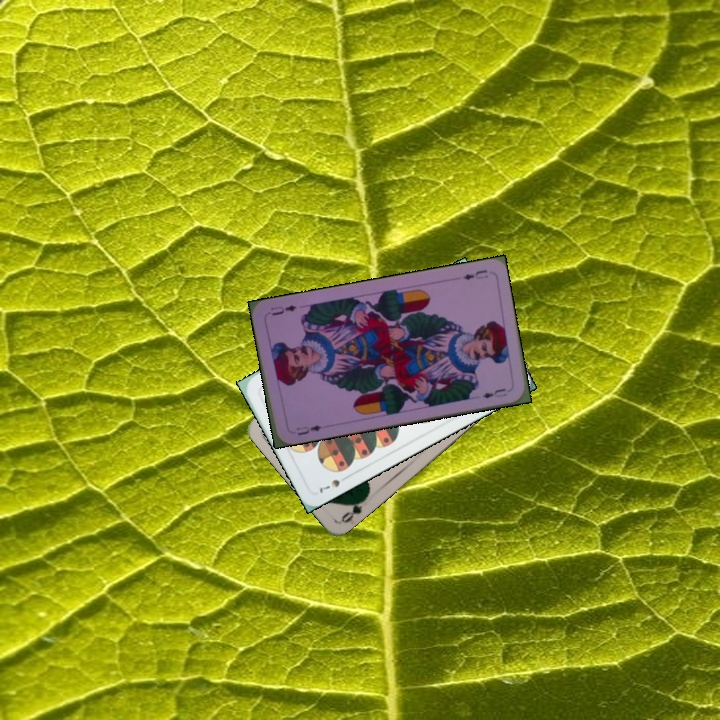EU: (292, 421, 324, 438), (459, 265, 490, 282)
GO: (337, 492, 370, 526)
S7: (315, 471, 351, 496)
